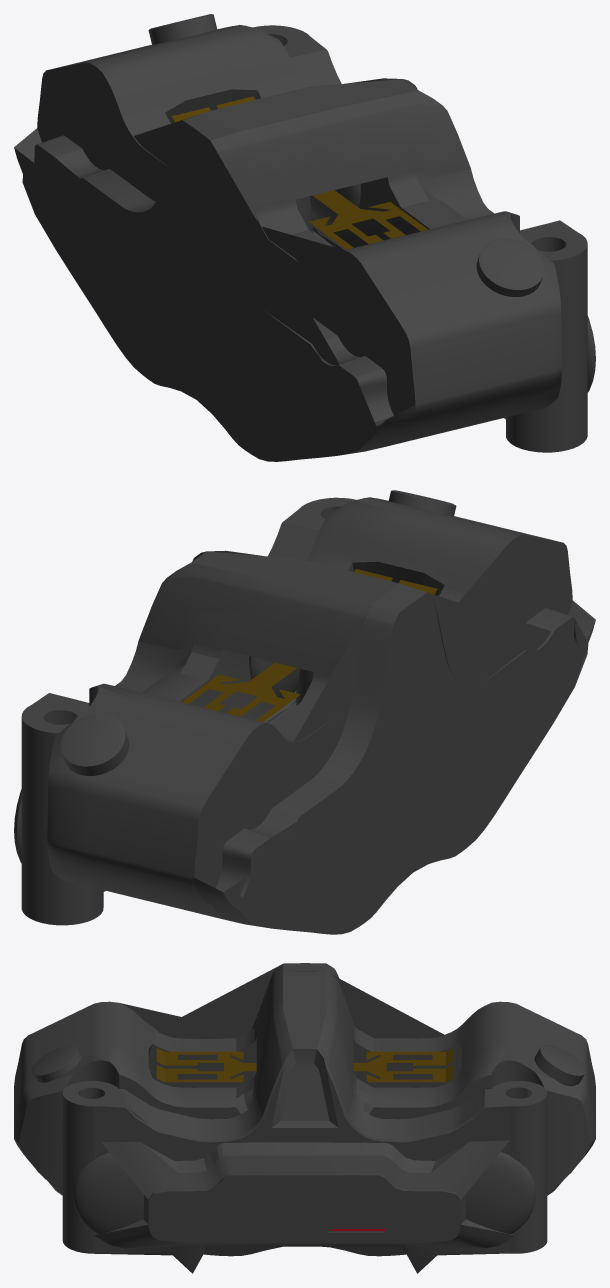
The model's file is adelin caliper.fbx.
3 views of the same model, one above another, from view 1: azimuth 30°, elevation 25°; view 2: azimuth 150°, elevation 25°; view 3: azimuth 270°, elevation 25° (orthographic). The views are drawn at different scales.
Visible parts, largest first — view 1: Plane.002, Cylinder.002, Plane, Plane.004, Cylinder.003; view 2: Plane.002, Cylinder.003, Plane, Plane.004, Cylinder.002; view 3: Plane.002, Plane.004, Plane, Cylinder.003, Cylinder.002.
Boxes of the visible parts, <box> form: Plane.002: <box>14,25,587,461</box>; Cylinder.002: <box>476,238,544,296</box>; Plane: <box>172,96,427,249</box>; Plane.004: <box>309,184,595,392</box>; Cylinder.003: <box>148,14,217,44</box>; Plane.002: <box>21,497,595,934</box>; Cylinder.003: <box>60,714,128,775</box>; Plane: <box>181,569,437,722</box>; Plane.004: <box>14,656,299,863</box>; Cylinder.002: <box>388,490,456,516</box>; Plane.002: <box>14,963,595,1273</box>; Plane.004: <box>73,1140,535,1248</box>; Plane: <box>156,1047,453,1082</box>; Cylinder.003: <box>534,1045,585,1086</box>; Cylinder.002: <box>31,1045,81,1082</box>.
Size of the model in its own units: 186 by 186 by 442.
